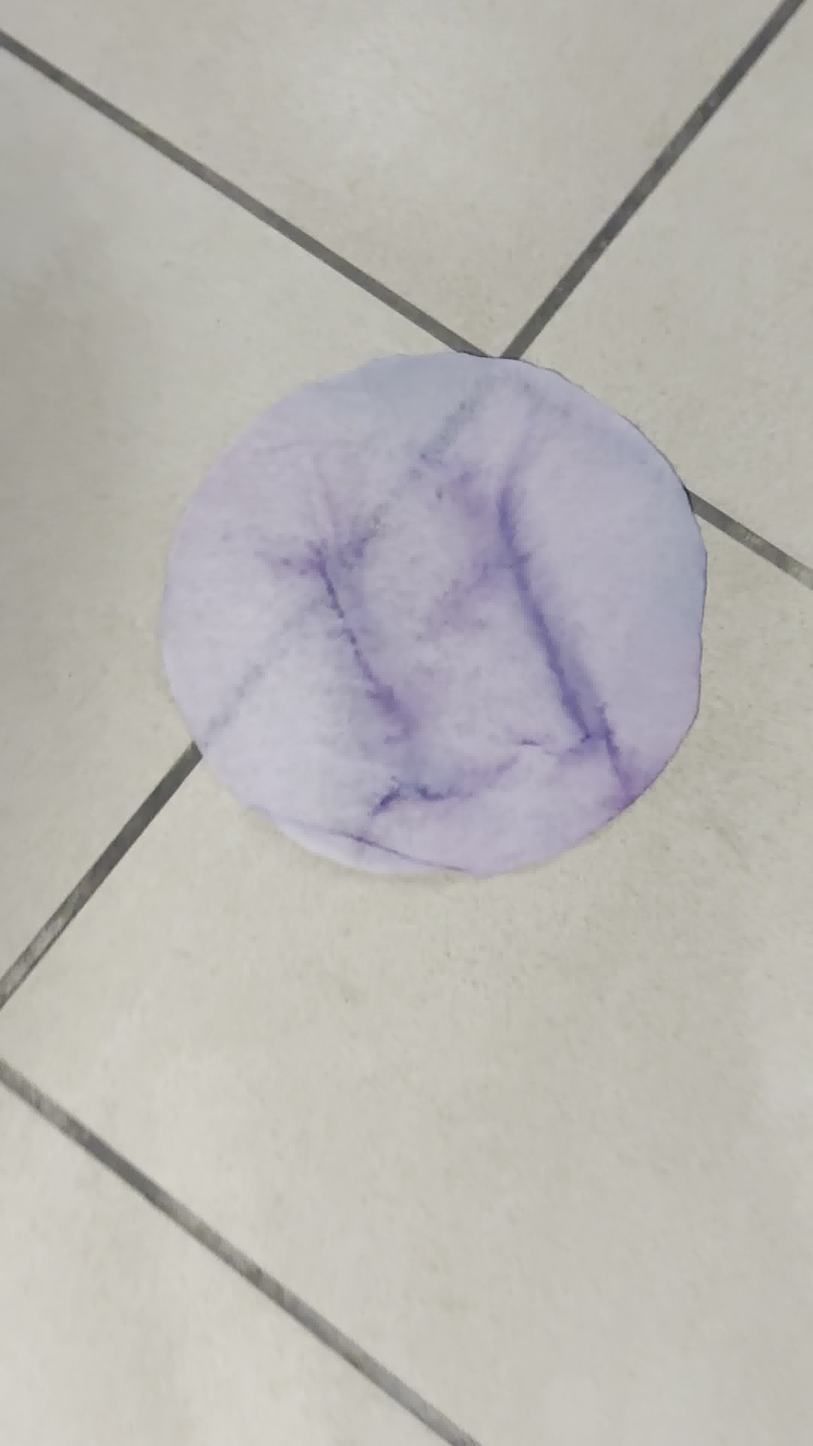Target: (153, 349, 707, 879)
